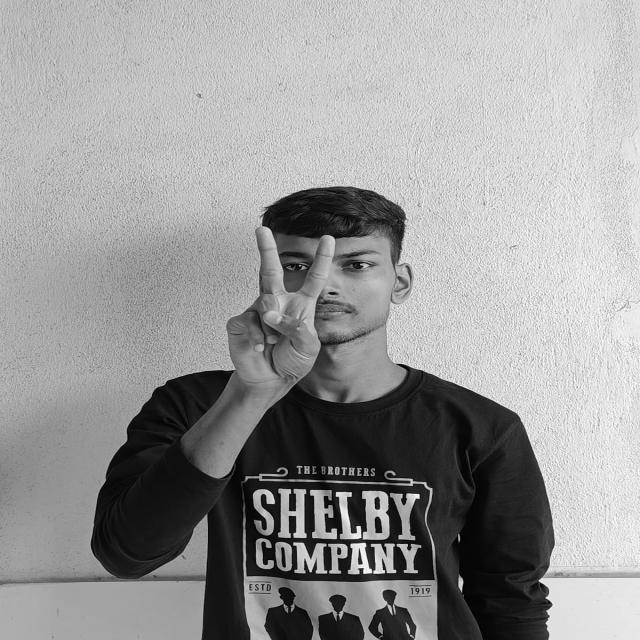Victory: (224, 226, 340, 385)
